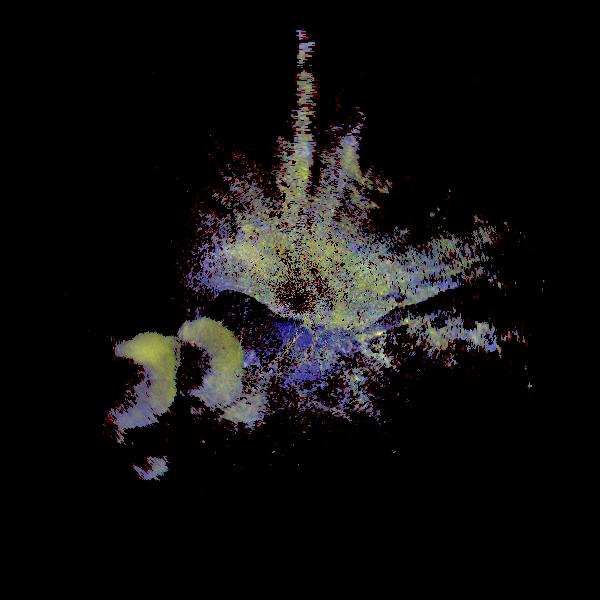roost: (137, 312, 248, 423), (78, 330, 186, 438), (193, 343, 280, 430), (334, 110, 421, 197), (121, 430, 175, 484)
